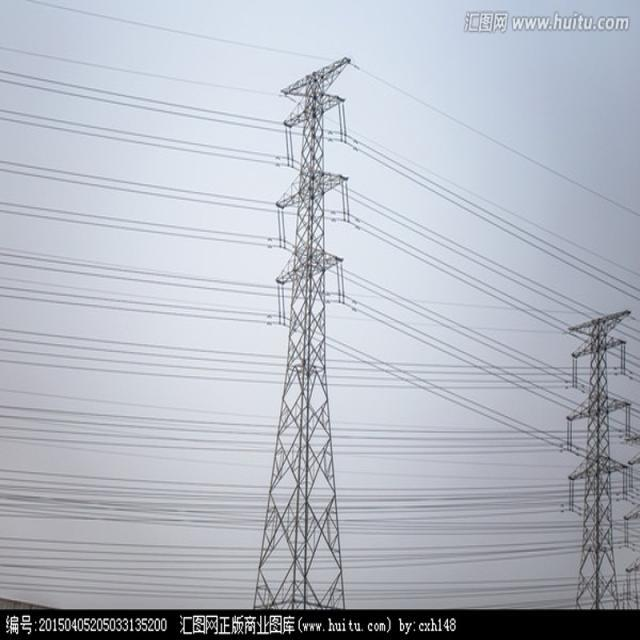non-critical vegetation: (248, 56, 366, 609), (555, 305, 635, 610)
